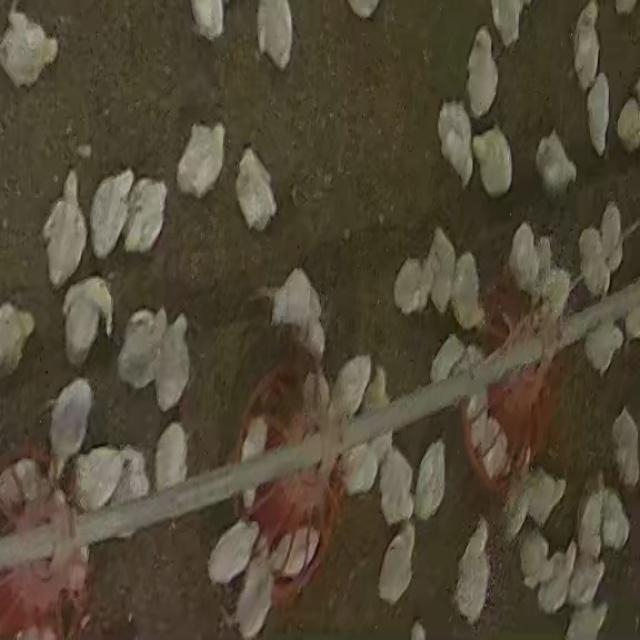chicken: (42, 171, 90, 283), (269, 264, 326, 357), (60, 278, 114, 371), (1, 5, 58, 91), (46, 376, 95, 474), (89, 169, 135, 263), (465, 406, 515, 492), (453, 519, 492, 625), (117, 305, 164, 391), (108, 443, 148, 543), (71, 444, 127, 514), (150, 310, 189, 410), (176, 123, 226, 200), (122, 177, 170, 256), (232, 548, 274, 636), (205, 518, 261, 584), (235, 147, 278, 231), (376, 519, 416, 607), (436, 101, 475, 190), (326, 354, 374, 424), (237, 416, 271, 511), (533, 540, 576, 614), (534, 129, 578, 199), (0, 455, 48, 519), (472, 126, 514, 199), (465, 29, 499, 118), (377, 446, 415, 525), (412, 440, 447, 522), (520, 468, 566, 530), (154, 422, 190, 501), (448, 252, 484, 331), (0, 302, 36, 381), (426, 226, 457, 317), (256, 0, 294, 72), (572, 2, 602, 92), (566, 546, 606, 610), (577, 227, 612, 300), (582, 318, 624, 376), (276, 524, 321, 578), (599, 200, 629, 281), (610, 408, 640, 488), (429, 330, 462, 402), (392, 258, 432, 317), (344, 438, 382, 498), (509, 221, 540, 293), (585, 72, 611, 154), (461, 340, 487, 421), (577, 485, 607, 554), (519, 530, 555, 587), (598, 489, 630, 551), (538, 266, 574, 320), (505, 478, 535, 541), (490, 2, 527, 49), (564, 600, 608, 638), (188, 1, 227, 40), (616, 95, 640, 154), (533, 234, 555, 291), (623, 295, 640, 343)
